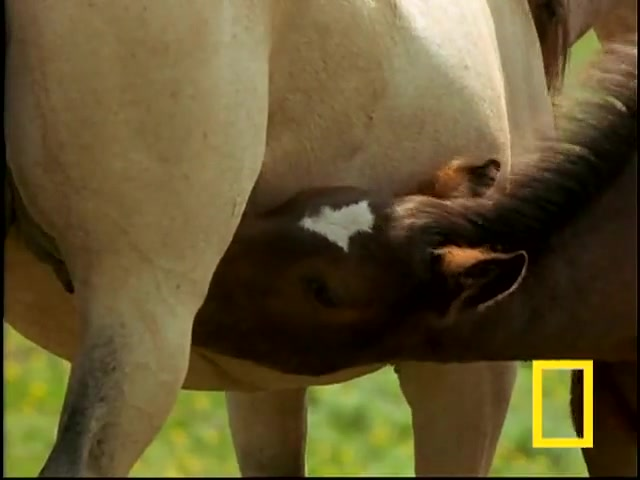horse: (191, 35, 638, 476)
